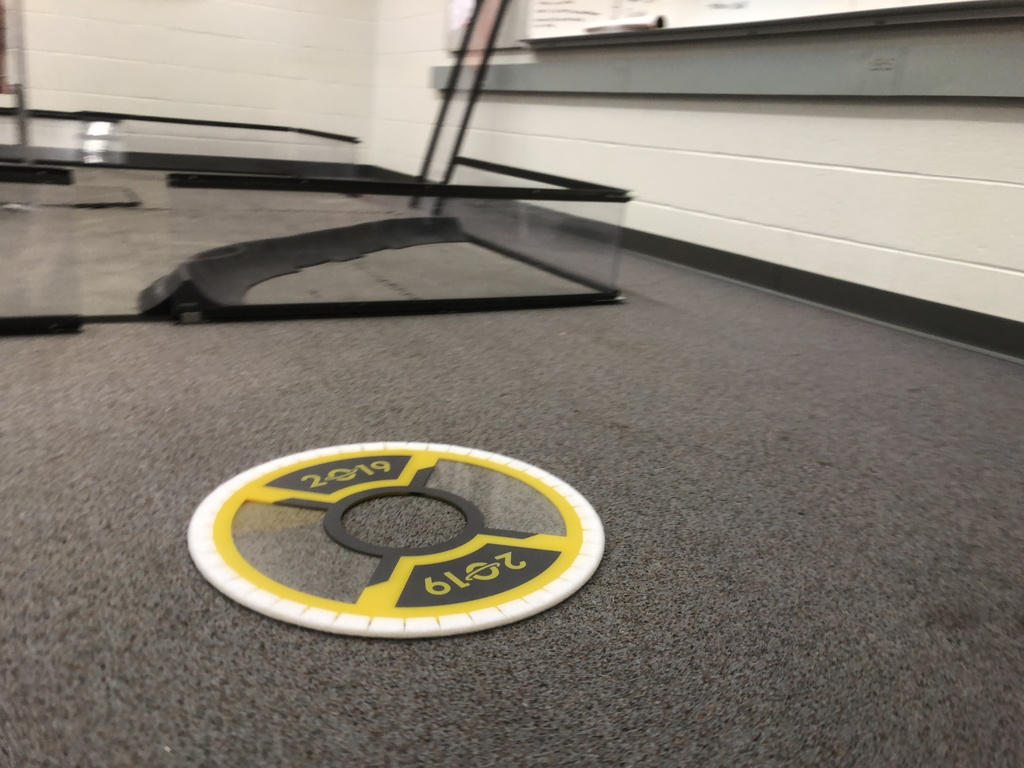hatch_panel: (177, 430, 630, 650)
